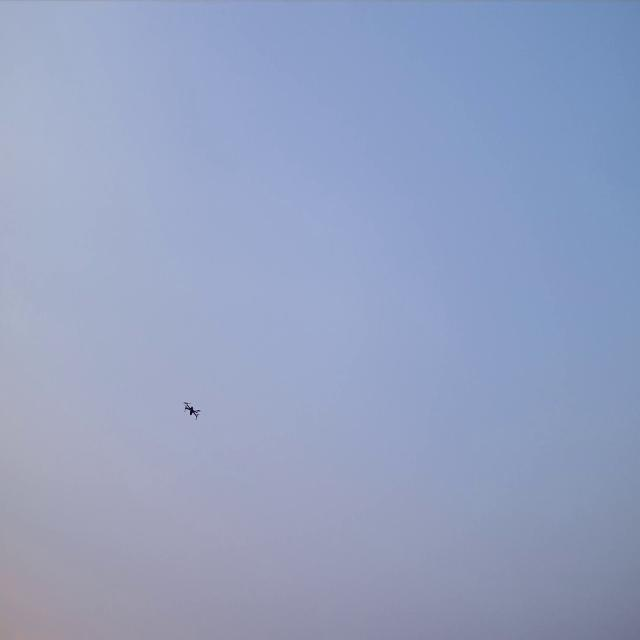UAV: (183, 400, 202, 421)
